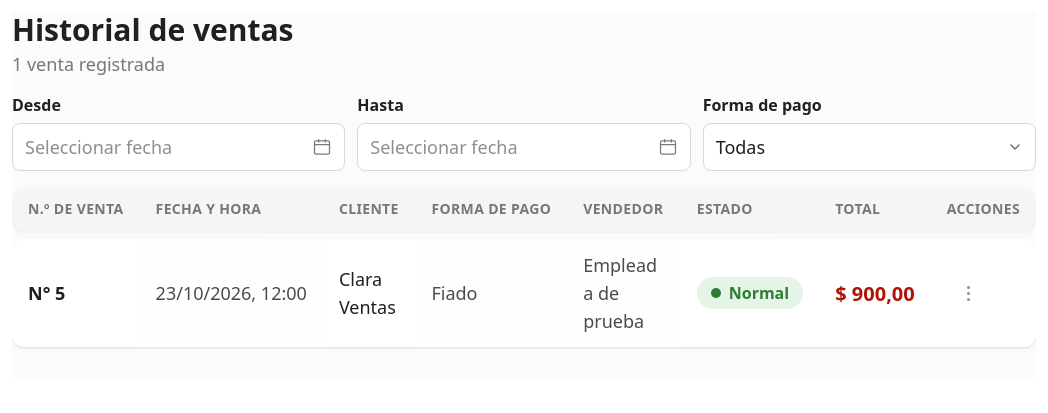
Test case: SalesPage › shows the sales count, the Normal label and clears the applied filters
Expected: the text "1 venta registrada" is shown, [12,52,165,76]
Expected: the text "Normal" is shown, [697,277,803,309]
Click the button named "Filtrar por forma de pago" at (740, 147), box [703,123,1036,171]
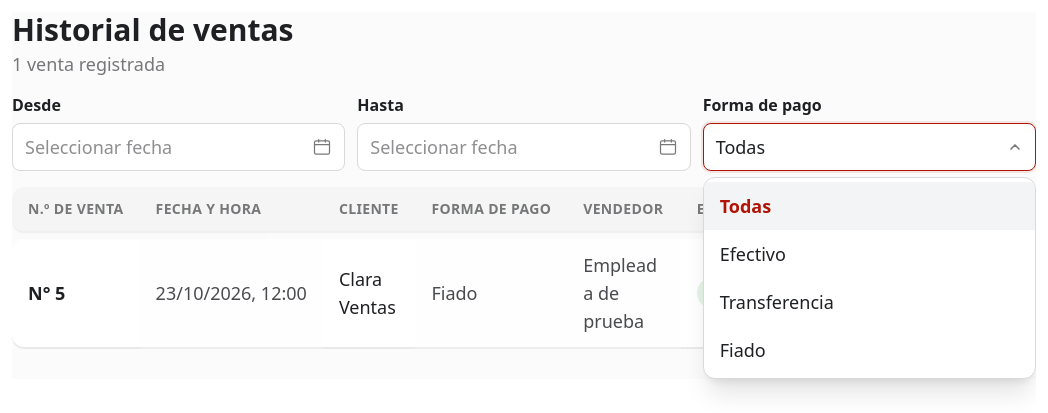
Click the option "Transferencia" at (777, 302), box [704,278,1035,326]
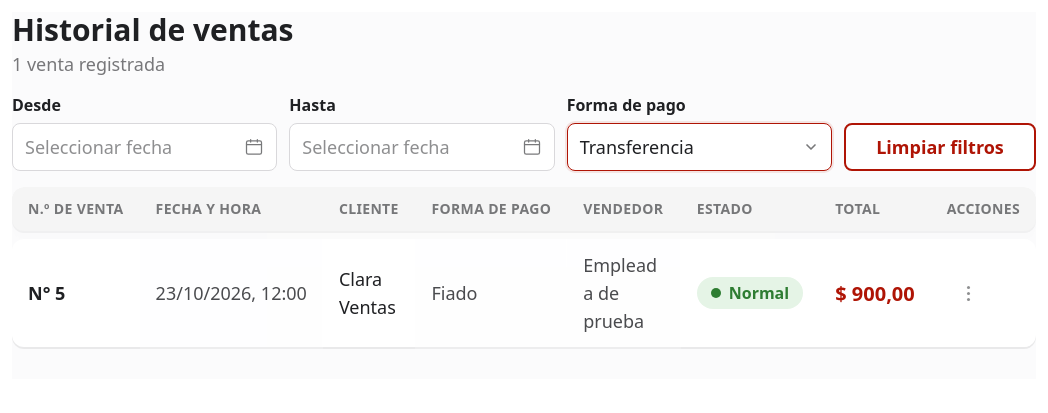
Click the button "Limpiar filtros" at (940, 147), box [844,123,1036,171]
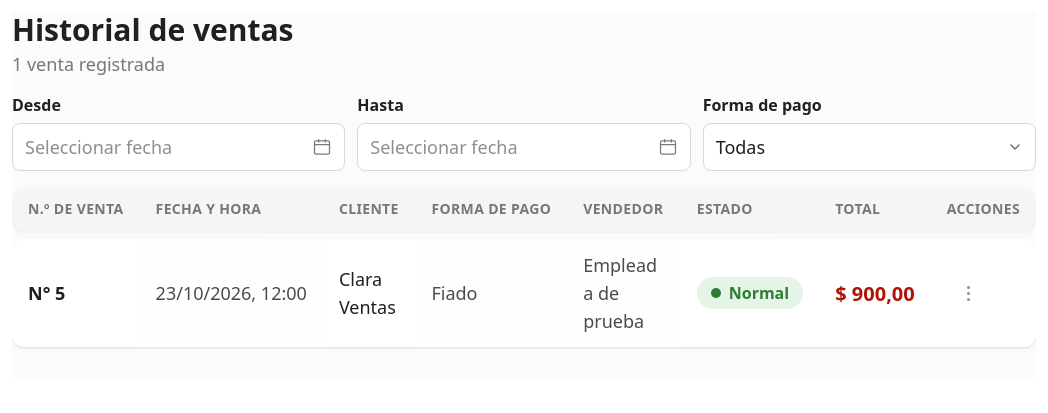
Result: the button "Limpiar filtros" is gone
Result: the button named "Filtrar por forma de pago" reads "Todas" at [703,123,1036,171]
